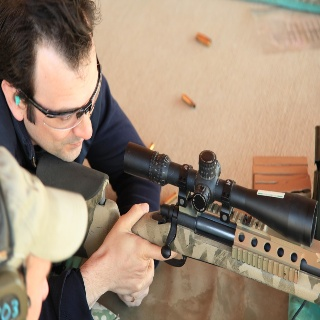rifle: (32, 140, 320, 305)
